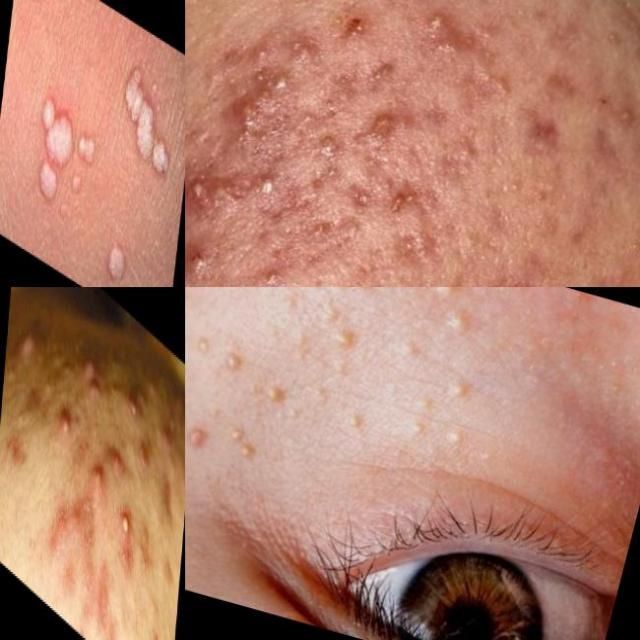7: (299, 378, 529, 488), (304, 287, 383, 360), (414, 287, 505, 344), (413, 363, 495, 419), (388, 318, 440, 370), (219, 420, 260, 480), (263, 365, 300, 417), (185, 413, 218, 468), (221, 341, 254, 384)
8: (361, 92, 404, 160), (185, 227, 219, 287), (55, 392, 75, 459), (136, 436, 152, 483)
9: (284, 23, 336, 84), (292, 117, 347, 171), (421, 0, 467, 44), (88, 444, 108, 514), (117, 496, 136, 557), (128, 384, 140, 430)
blackheads: (185, 160, 266, 232), (509, 98, 574, 175), (230, 54, 287, 138), (587, 0, 640, 57), (481, 260, 546, 287)
pustules: (74, 335, 110, 420), (19, 300, 39, 380)
